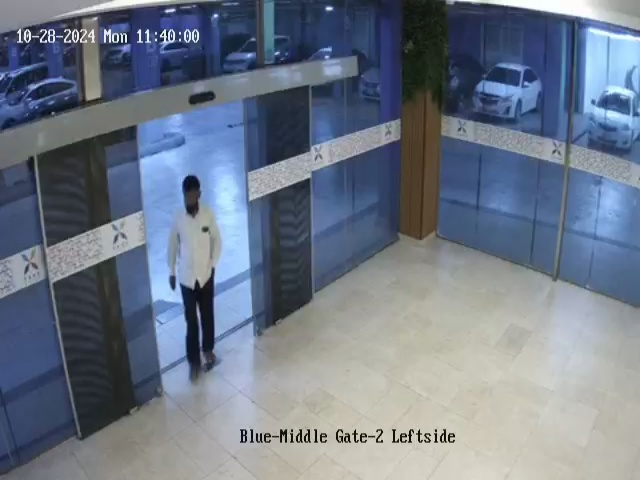male: (167, 175, 223, 377)
